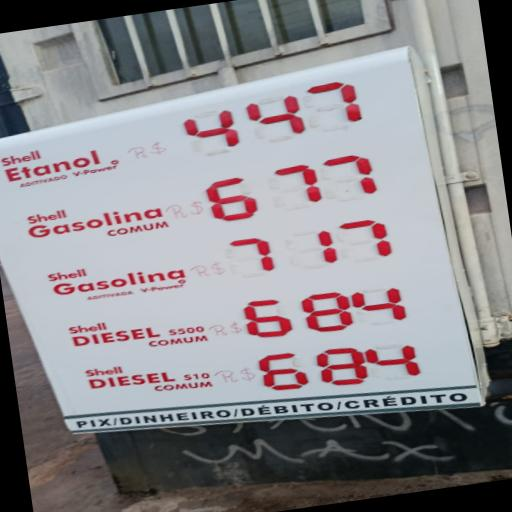ETANOL: (0, 126, 135, 195)
GASOLINA AD: (31, 249, 198, 314)
GASOLINA C: (10, 185, 188, 257)
S10: (69, 348, 226, 403)
S500: (54, 303, 228, 360)
placa: (0, 55, 480, 412)
